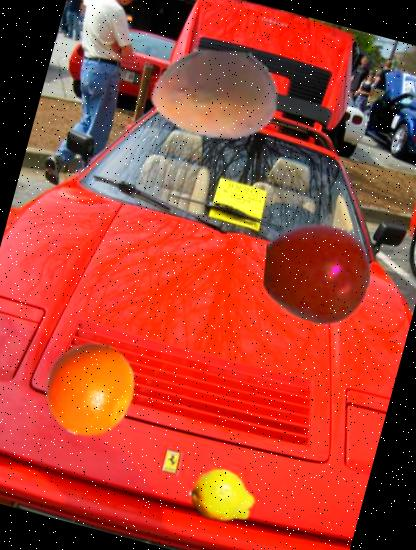Cherry: (252, 210, 383, 340)
Grapefruit: (31, 330, 148, 448)
Hazelnut: (132, 10, 298, 177)
Quince: (182, 456, 264, 537)
